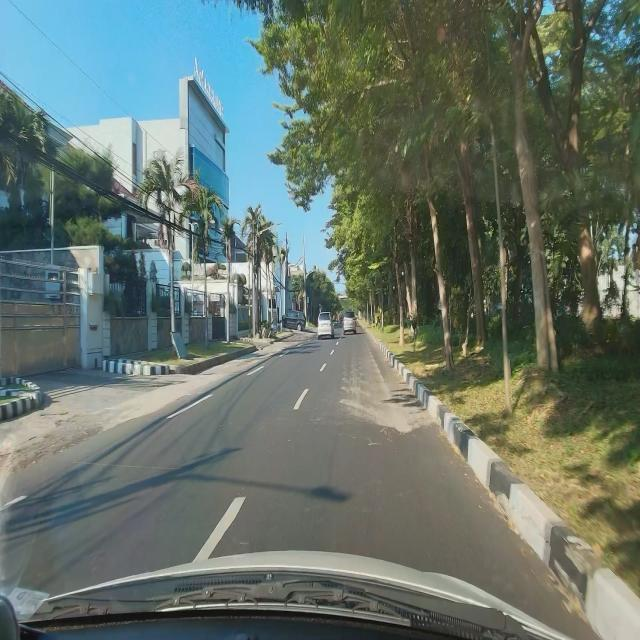car: (317, 310, 334, 341), (342, 310, 357, 337)
